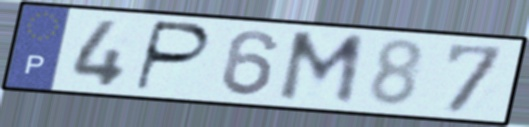4: (68, 17, 128, 88)
6: (216, 28, 283, 98)
7: (442, 39, 508, 116)
8: (365, 37, 428, 111)
M: (274, 29, 370, 109)
P: (130, 18, 214, 94)
